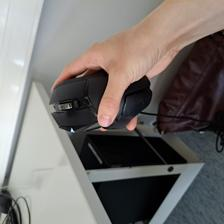mouse: (48, 68, 155, 132)
